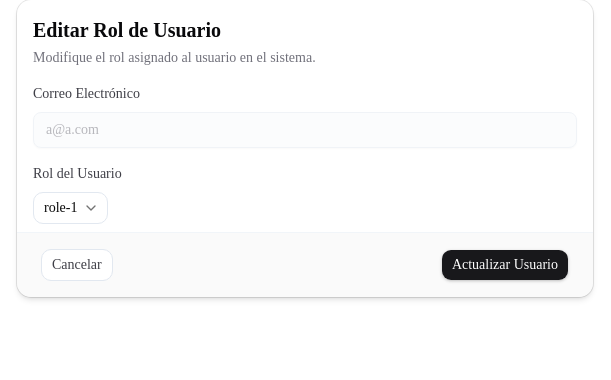
it: UserForm › muestra mensaje de error si ocurre una excepción
The width and height of the screenshot is (611, 380).
Step 1. Click the button "Actualizar Usuario" → (505, 265), box [441,249,569,281]
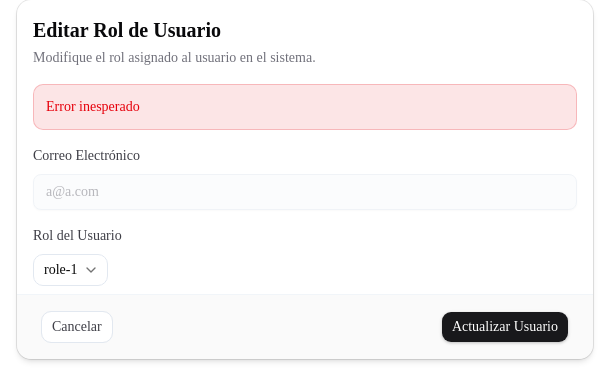
Result: the text "Error inesperado" is shown at [33,84,577,130]
